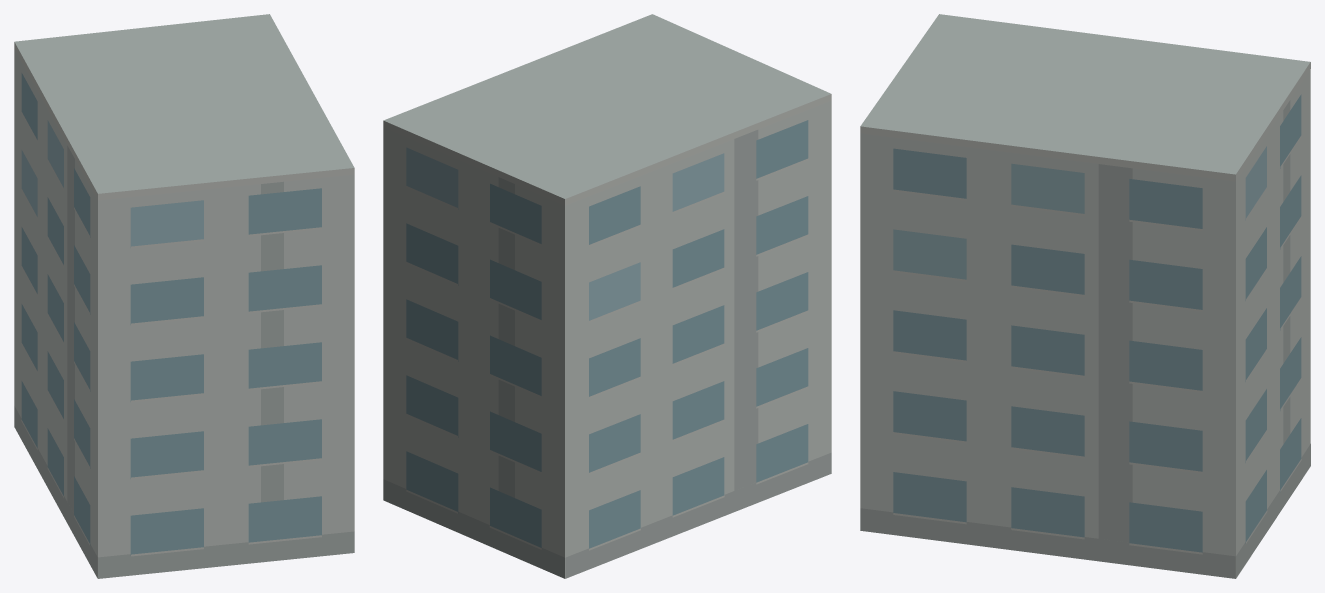
File: survey-upis-32868092.glb
3 renders of one model, left to right at view 1: azimuth 30°, elevation 25°; view 2: azimuth 150°, elevation 25°; view 3: azimuth 270°, elevation 25°, orthographic. The views are drawn at different scales.
Visible parts, largest first — view 1: survey-upis-32868092.tmp; view 2: survey-upis-32868092.tmp; view 3: survey-upis-32868092.tmp.
Boxes of the visible parts, <box> form: survey-upis-32868092.tmp: <box>14,14,354,578</box>; survey-upis-32868092.tmp: <box>383,14,831,578</box>; survey-upis-32868092.tmp: <box>860,14,1310,578</box>.
Bounding box in the file's own units: 11.84 × 13.9 × 14.04.
